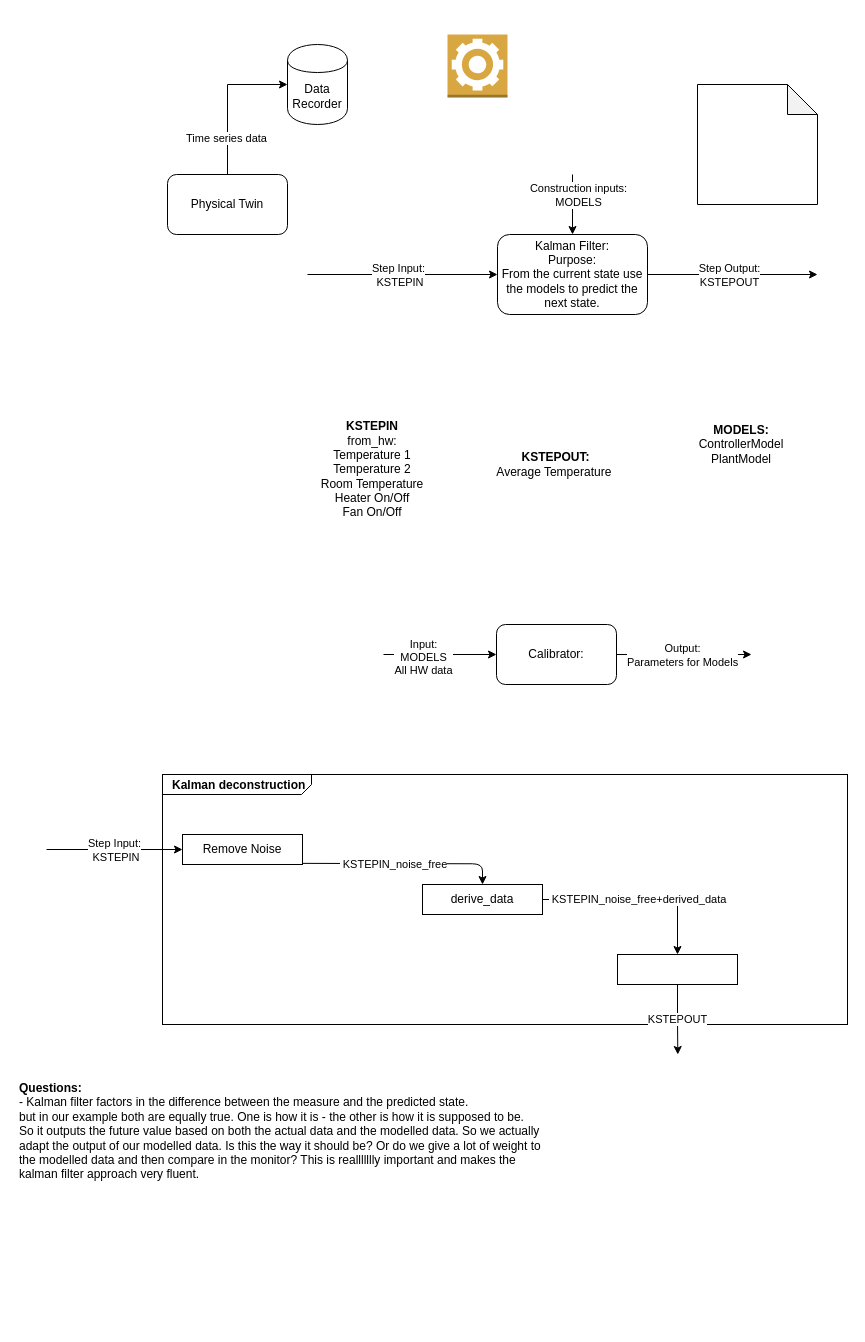
Image size: 865x1342. Some labels were removed from this diagram. The centre of each missing label's shape, as x and y in pixels:
"Digital Twin Manager" goes at point (477, 66).
"Predict" goes at point (677, 969).
"Q: Does kalman filter also do the monitoring?" goes at point (757, 144).
